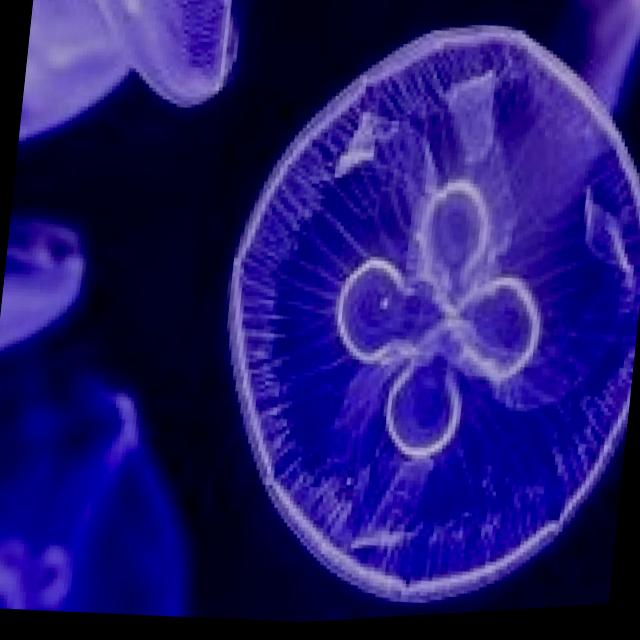Moon-jellyfish: (189, 0, 640, 631)
